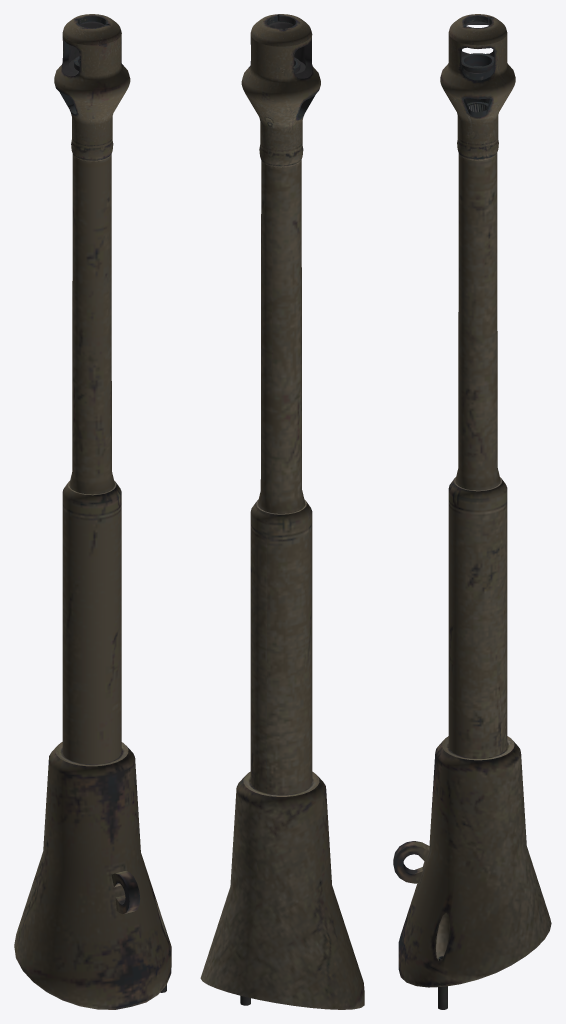
Rendered from Gun_03.glb.
3 renders of one model, left to right at view 1: azimuth 30°, elevation 25°; view 2: azimuth 150°, elevation 25°; view 3: azimuth 270°, elevation 25°, orthographic. The views are drawn at different scales.
Visible parts, largest first — view 1: set_0_group_0; view 2: set_0_group_0; view 3: set_0_group_0.
Boxes of the visible parts, x1,y1,x2,y2 form: set_0_group_0: [14, 14, 171, 1009]; set_0_group_0: [200, 14, 364, 1009]; set_0_group_0: [393, 14, 551, 1009].
Bounding box in the file's own units: 0.6448 × 4.3 × 0.6419.
Materials: 1 (1 with a texture image).
